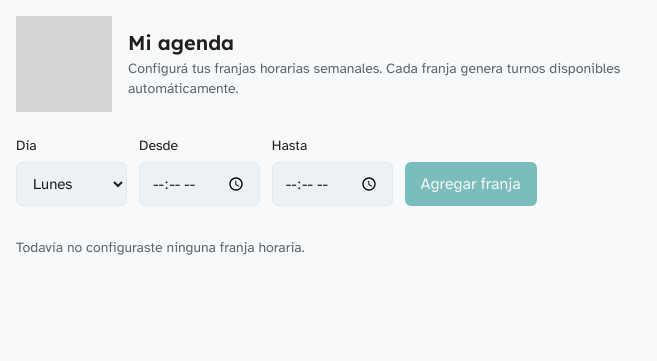
Test: PaginaAgendaVeterinario (app/veterinario/agenda) › configura una franja nueva y muestra cuántos turnos generó
expect the text "Todavía no configuraste ninguna franja horaria." is shown: met, box [16,239,305,256]
Type "09:00" into the time field labelled "Desde" at (199, 184), box [139,162,260,206]
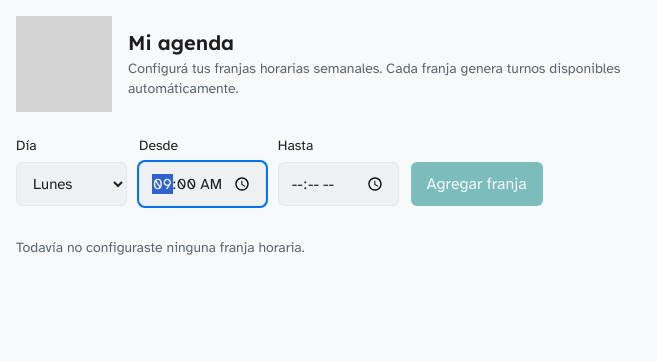
Type "13:00" into the time field labelled "Hasta" at (338, 184), box [278,162,399,206]
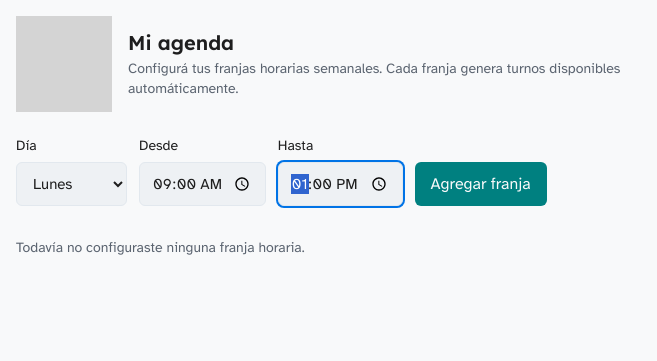
Click the button "Agregar franja" at (481, 184), box [414,162,547,206]
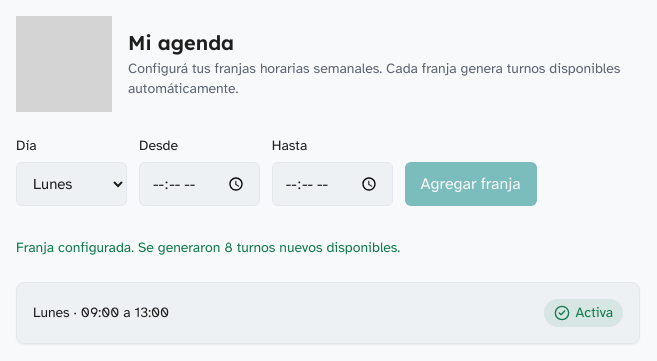
expect the text "Se generaron 8 turnos nuevos disponibles" is shown: met, box [16,239,400,256]
